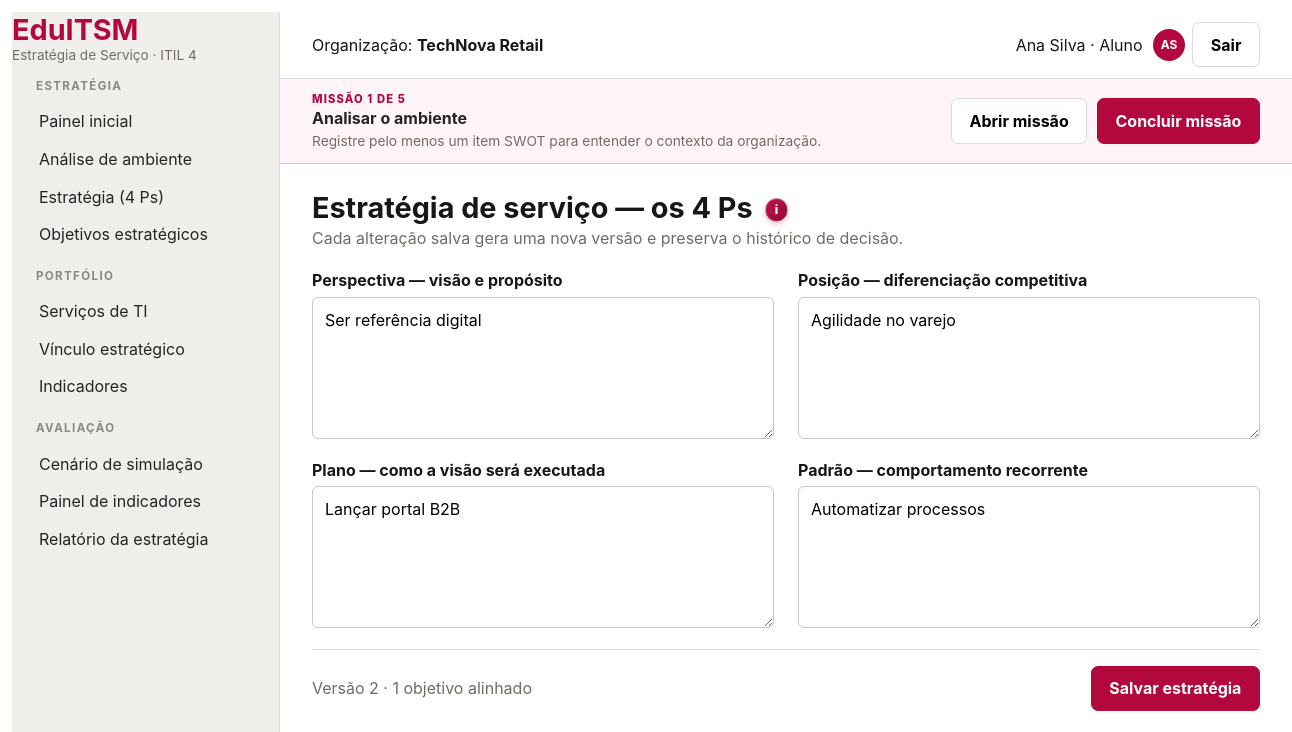
Test case: T04 estratégia de serviço › carrega os quatro Ps e salva uma nova versão
The width and height of the screenshot is (1292, 732).
Expected: the text box labelled "Perspectiva — visão e propósito" holds "Ser referência digital", [312,297,774,439]
Expected: the text "Versão 2 · 1 objetivo alinhado" is shown, [312,678,532,698]
Replace the text in the text box labelled "Plano — como a visão será executada" with "Lançar portal B2B em seis meses". click: (543, 557)
box: [312,486,774,628]
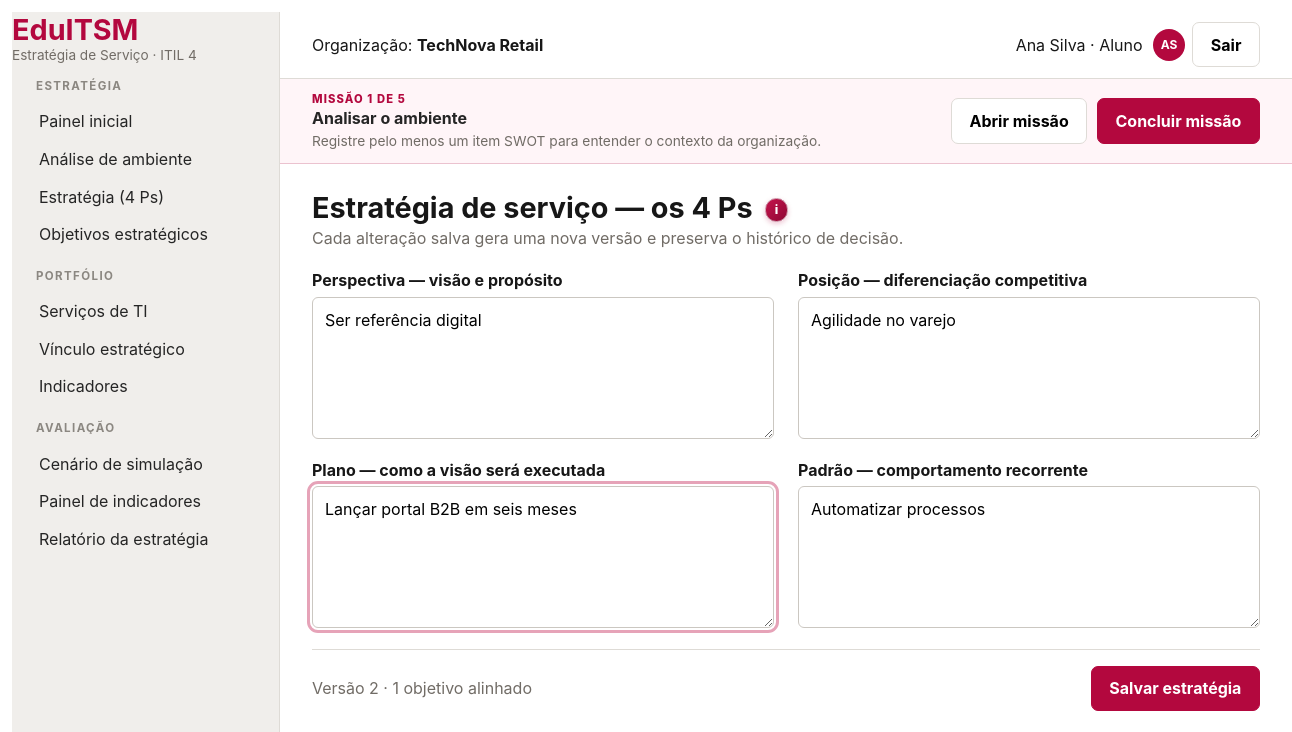
Click the button "Salvar estratégia". click: (1175, 688)
box: [1091,666,1260,711]
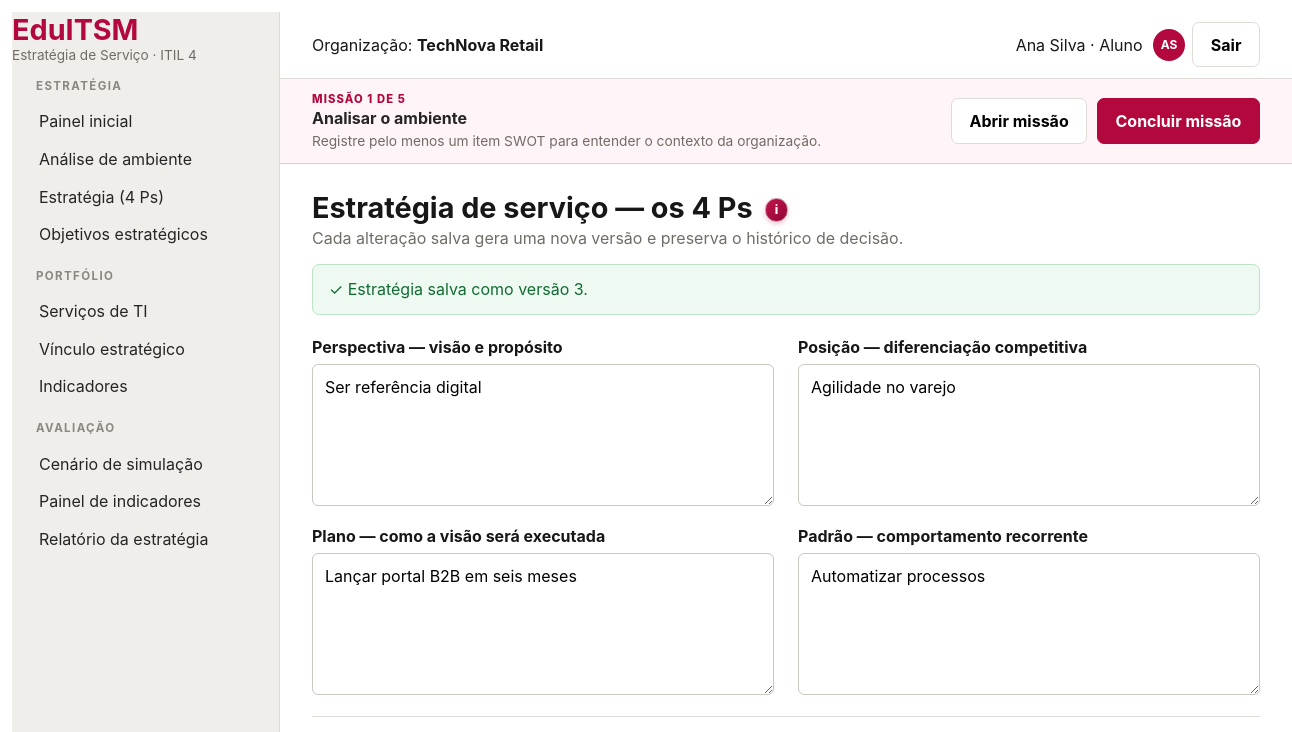
Now the message shows "Estratégia salva como versão 3.", box [348,279,588,299]
